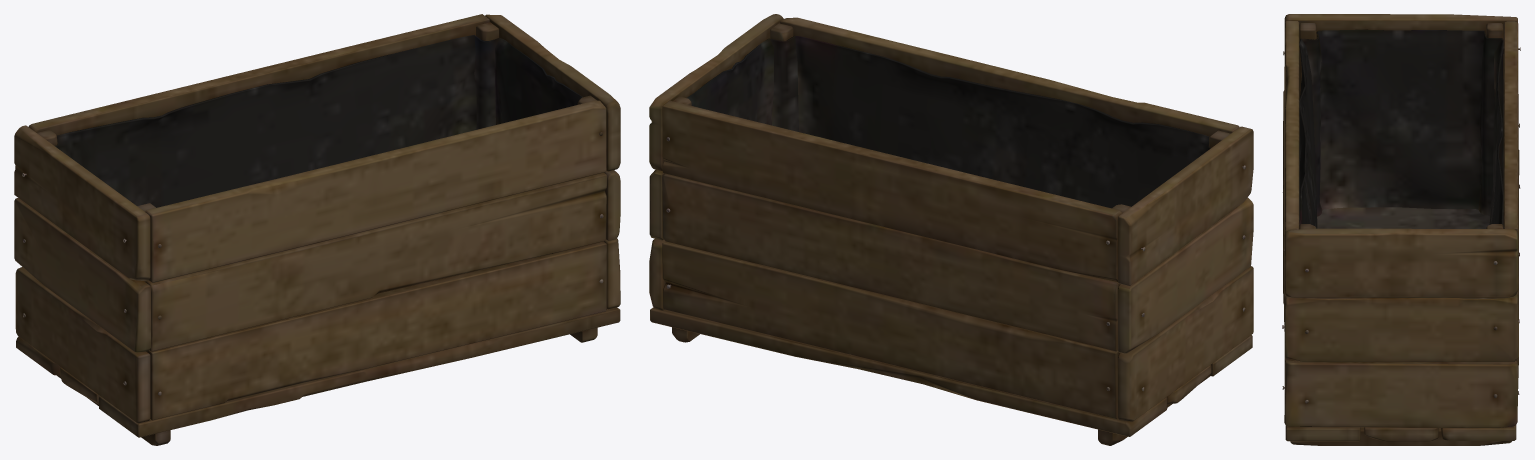
The model's file is macetero.glb.
The picture shows the model from 3 angles, left to right: view 1: azimuth 30°, elevation 25°; view 2: azimuth 150°, elevation 25°; view 3: azimuth 270°, elevation 25°; orthographic projection. The views are drawn at different scales.
Parts seen in each view (by area): view 1: planter_box_01; view 2: planter_box_01; view 3: planter_box_01.
Part boxes in pixels (x1,y1,x2,y2): planter_box_01: (14, 14, 620, 445); planter_box_01: (649, 14, 1253, 445); planter_box_01: (1282, 14, 1520, 445).
Bounding box in the file's own units: 0.9126 × 0.4249 × 0.4137.
1 material, 1 textured.
